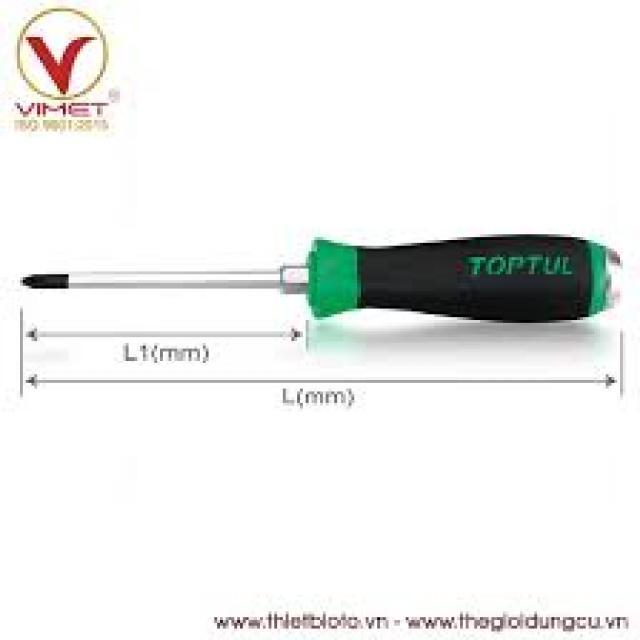screwdriver: (14, 226, 626, 323)
